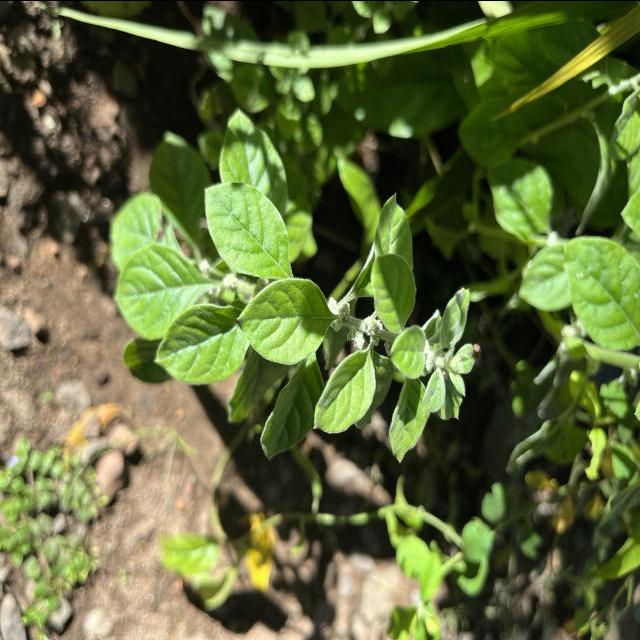Aerva lanata: (202, 179, 296, 281), (234, 274, 337, 366), (311, 344, 378, 436)
